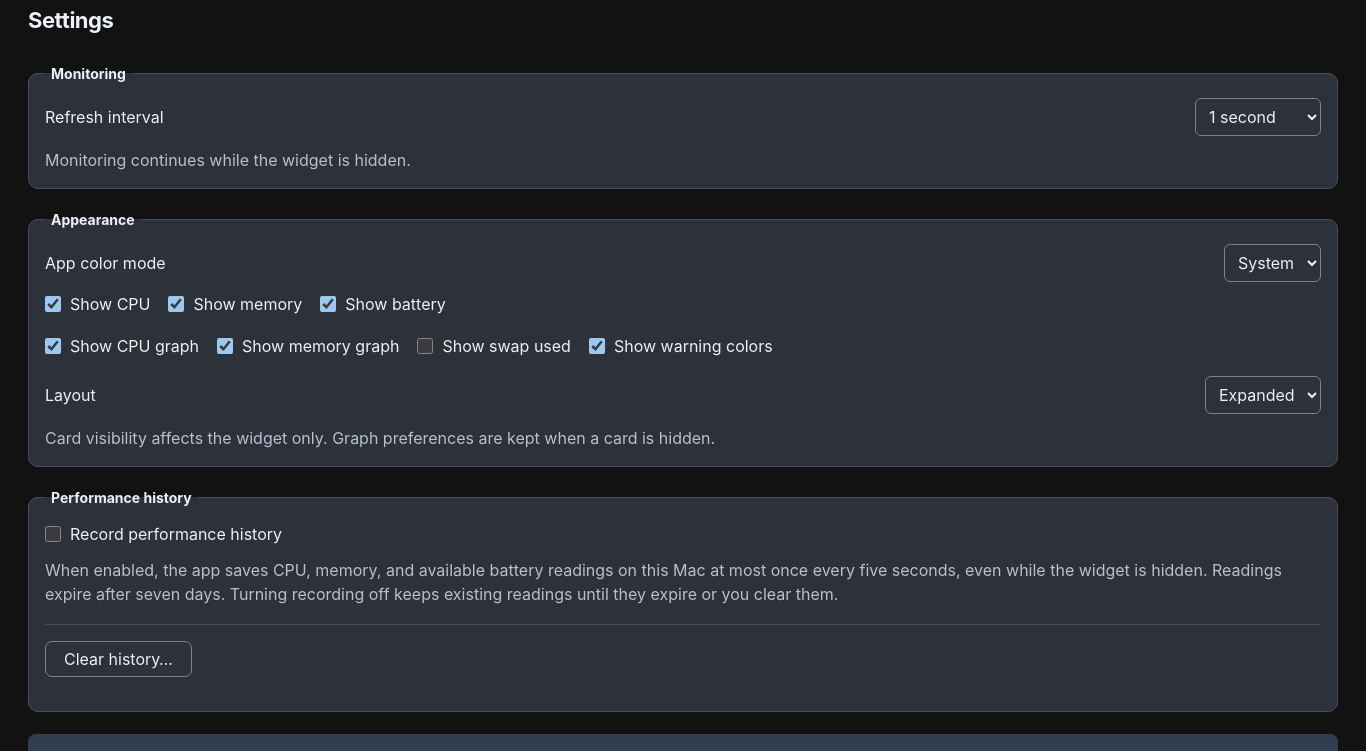
Test: Settings window › hiding the memory card disables and unchecks its graph control
Expected: the dropdown labelled "Refresh interval" is shown, left=1195, top=98, right=1321, bottom=136
Expected: the checkbox labelled "Show memory graph" is checked, left=217, top=338, right=233, bottom=354
Click the checkbox labelled "Show memory". click: (176, 304)
box: left=168, top=296, right=184, bottom=312
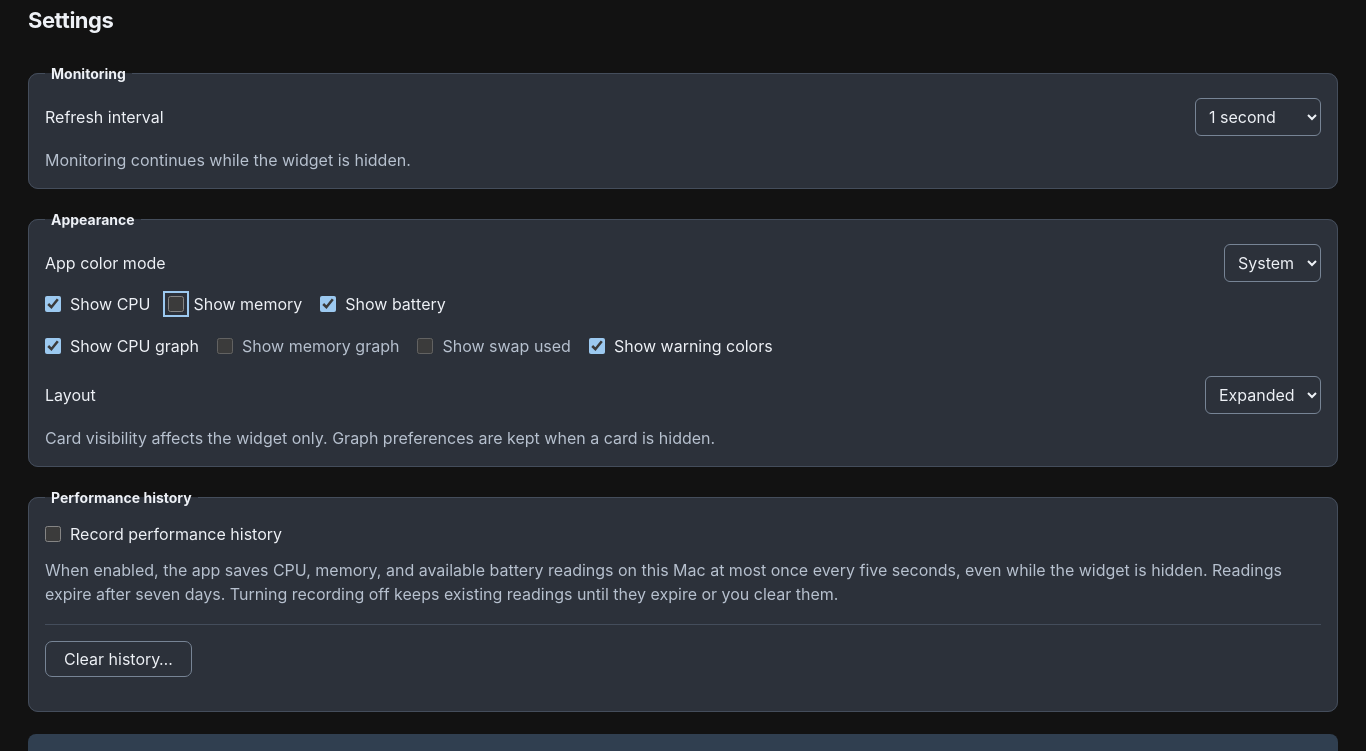
Expected: the checkbox labelled "Show CPU graph" is enabled, left=45, top=338, right=61, bottom=354
Expected: the checkbox labelled "Show memory graph" is disabled
Expected: the checkbox labelled "Show memory graph" is not checked
Click the checkbox labelled "Show memory graph". click: (225, 346)
box: left=217, top=338, right=233, bottom=354
(page scrolled)
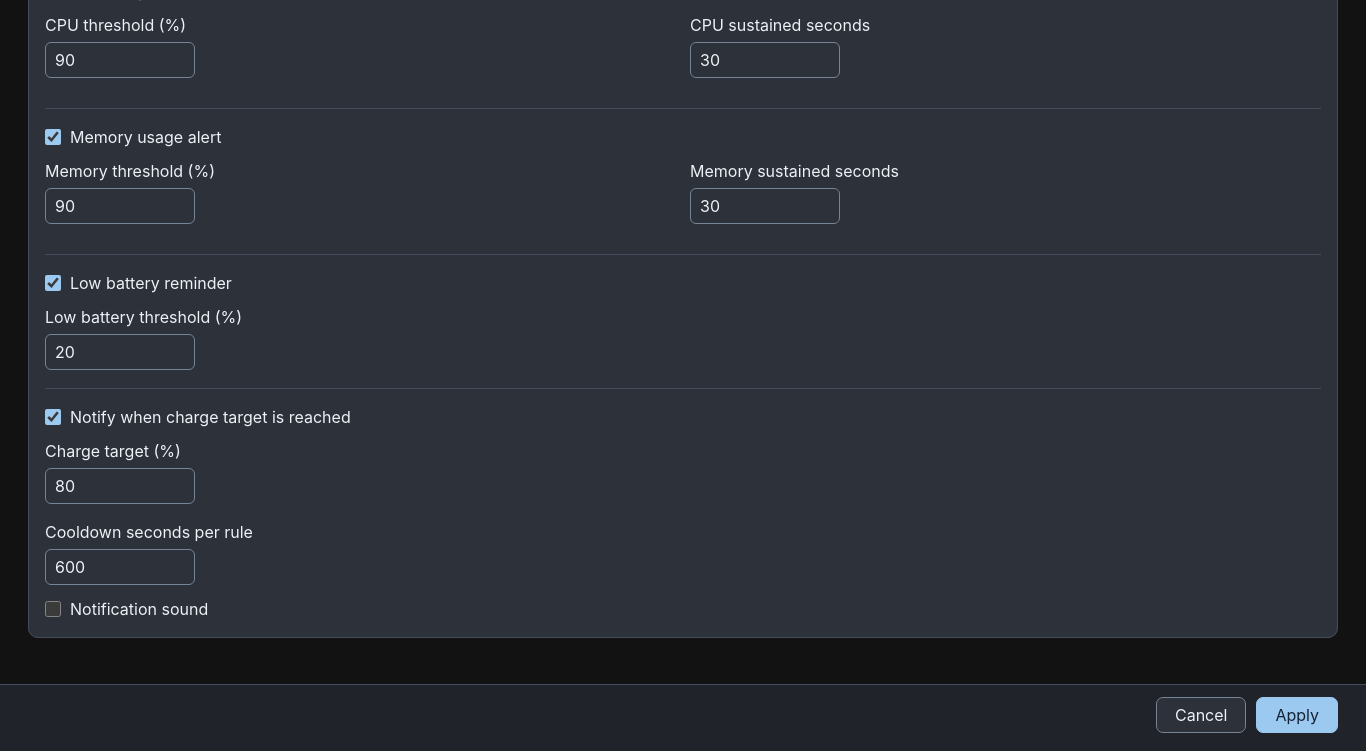
Click the button "Apply". click: (1297, 715)
box: left=1256, top=697, right=1338, bottom=733
(page scrolled)
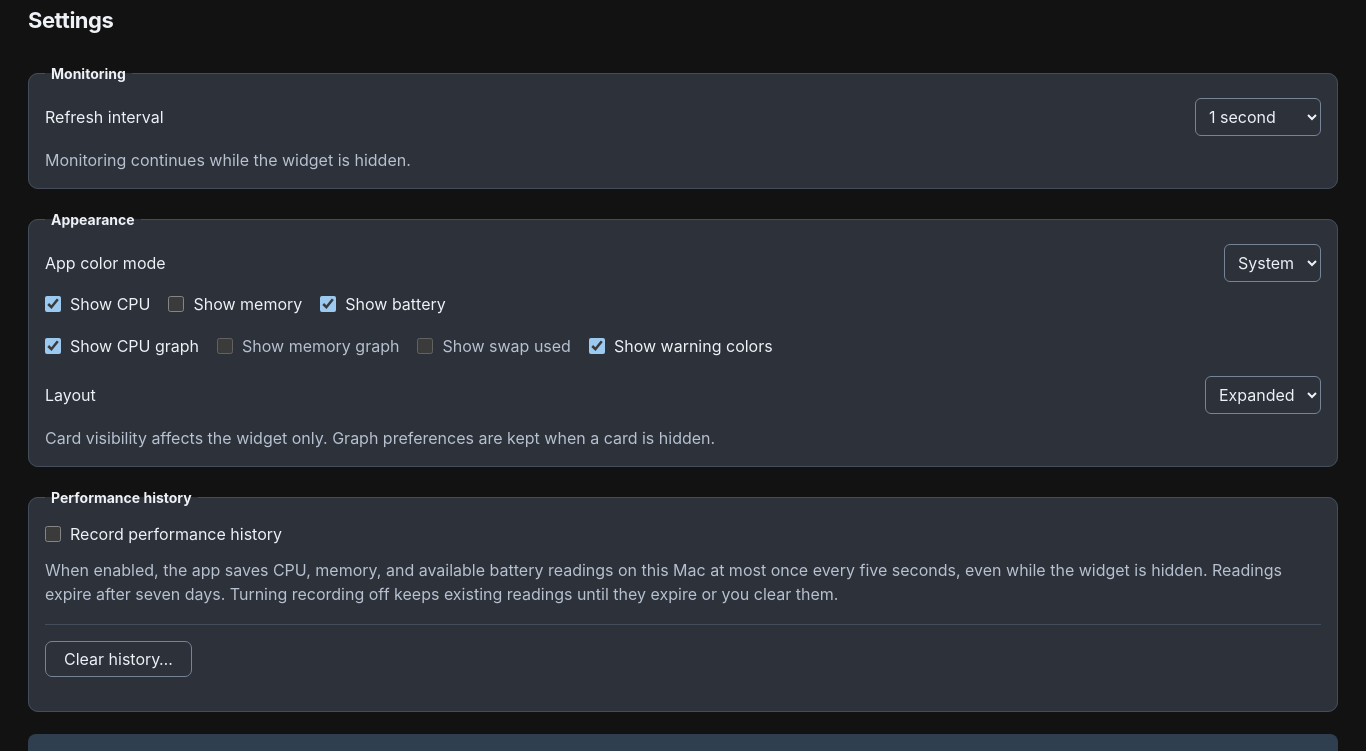
Expected: the checkbox labelled "Show memory graph" is not checked, left=217, top=338, right=233, bottom=354
Expected: the checkbox labelled "Show memory graph" is disabled, left=217, top=338, right=233, bottom=354
Click the checkbox labelled "Show memory". click: (176, 304)
box: left=168, top=296, right=184, bottom=312
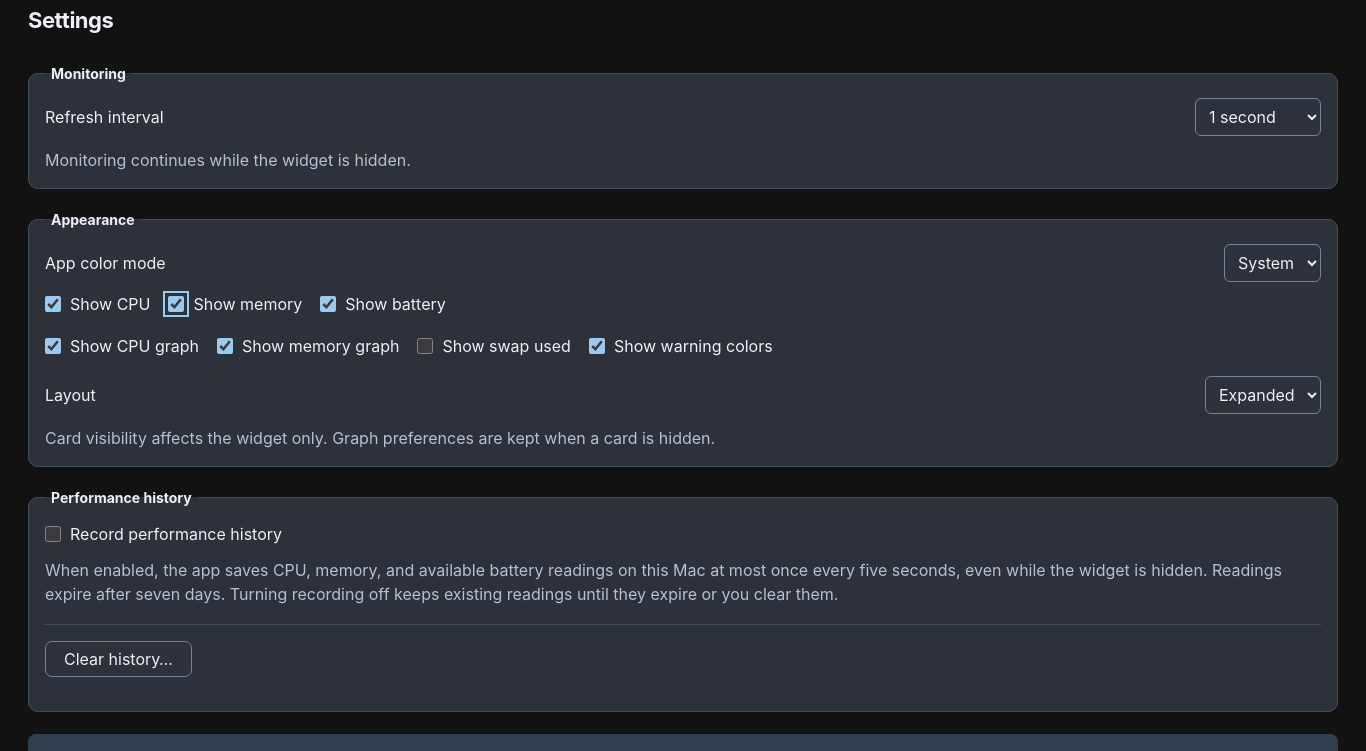
Expected: the checkbox labelled "Show memory graph" is checked, left=217, top=338, right=233, bottom=354
Expected: the checkbox labelled "Show memory graph" is enabled, left=217, top=338, right=233, bottom=354
